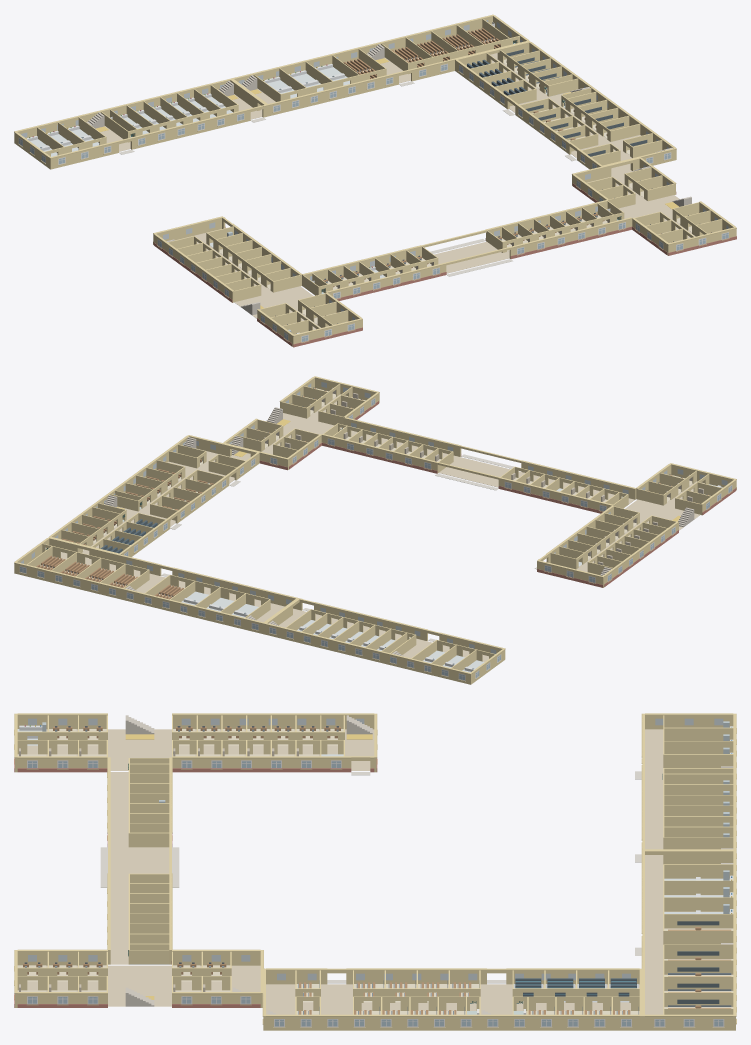
Rendered from east-network.glb.
The picture shows the model from 3 angles, top to bottom: view 1: azimuth 30°, elevation 25°; view 2: azimuth 150°, elevation 25°; view 3: azimuth 270°, elevation 25°; orthographic projection. The views are drawn at different scales.
Visible parts, largest first — view 1: HUS_T5__F1__F2D17C, HUS_T1_W__F1__F2D17C, HUS_T4__F1__E9C977, HUS_T3__F1__E9C977, HUS_T1__F1__E9C977, HUS_T4__F1__F2D17C, HUS_T3__F1__F2D17C, HUS_T1_E__F1__F2D17C, HUS_T1__F1__F2D17C, HUS_T5__F1__E9C977, HUS_T1_W__F1__E9C977, HUS_T1_E__F1__E9C977 (+14 smaller); view 2: HUS_T5__F1__F2D17C, HUS_T1_W__F1__F2D17C, HUS_T4__F1__E9C977, HUS_T3__F1__E9C977, HUS_T1__F1__E9C977, HUS_T4__F1__F2D17C, HUS_T3__F1__F2D17C, HUS_T1_E__F1__F2D17C, HUS_T1__F1__F2D17C, HUS_T5__F1__E9C977, HUS_T1_W__F1__E9C977, HUS_T1_E__F1__E9C977 (+15 smaller); view 3: HUS_T5__F1__E9C977, HUS_T4__F1__F2D17C, HUS_T3__F1__F2D17C, HUS_T1__F1__F2D17C, HUS_T1_W__F1__E9C977, HUS_T5__F1__F2D17C, HUS_T1_W__F1__F2D17C, HUS_T1__F1__CDB892, HUS_T1_E__F1__E9C977, HUS_T5__F1__CDB892, HUS_T1_W__F1__CDB892, HUS_T1_E__F1__CDB892 (+26 smaller).
Boxes of the visible parts, box(x1,y1,x2,y2) form: HUS_T5__F1__F2D17C: box(470, 50, 662, 165); HUS_T1_W__F1__F2D17C: box(168, 226, 348, 334); HUS_T4__F1__E9C977: box(231, 14, 529, 116); HUS_T3__F1__E9C977: box(14, 79, 267, 169); HUS_T1__F1__E9C977: box(302, 200, 632, 297); HUS_T4__F1__F2D17C: box(253, 18, 519, 101); HUS_T3__F1__F2D17C: box(37, 85, 238, 156); HUS_T1_E__F1__F2D17C: box(587, 167, 722, 242); HUS_T1__F1__F2D17C: box(303, 201, 624, 295); HUS_T5__F1__E9C977: box(455, 41, 676, 170); HUS_T1_W__F1__E9C977: box(153, 216, 362, 346); HUS_T1_E__F1__E9C977: box(572, 157, 736, 255); HUS_T5__F1__F2D17C: box(61, 444, 245, 552); HUS_T1_W__F1__F2D17C: box(550, 471, 721, 574); HUS_T4__F1__E9C977: box(14, 537, 298, 634); HUS_T3__F1__E9C977: box(264, 598, 505, 684); HUS_T1__F1__E9C977: box(321, 417, 636, 510); HUS_T4__F1__F2D17C: box(27, 543, 270, 619); HUS_T3__F1__F2D17C: box(286, 609, 495, 670); HUS_T1_E__F1__F2D17C: box(236, 384, 364, 457); HUS_T1__F1__F2D17C: box(323, 423, 628, 508); HUS_T5__F1__E9C977: box(49, 435, 259, 556); HUS_T1_W__F1__E9C977: box(537, 463, 736, 587); HUS_T1_E__F1__E9C977: box(223, 376, 379, 469); HUS_T5__F1__E9C977: box(263, 968, 642, 1030); HUS_T4__F1__F2D17C: box(663, 864, 733, 1014); HUS_T3__F1__F2D17C: box(663, 715, 733, 849); HUS_T1__F1__F2D17C: box(128, 758, 169, 964); HUS_T1_W__F1__E9C977: box(15, 713, 376, 772); HUS_T5__F1__F2D17C: box(295, 970, 639, 1014); HUS_T1_W__F1__F2D17C: box(17, 715, 344, 756); HUS_T1__F1__CDB892: box(110, 772, 169, 964); HUS_T1_E__F1__E9C977: box(15, 950, 263, 1007); HUS_T5__F1__CDB892: box(266, 984, 639, 1014); HUS_T1_W__F1__CDB892: box(27, 729, 374, 770); HUS_T1_E__F1__CDB892: box(27, 965, 260, 1006).
Size of the model in its own units: 175 by 4 by 177.
